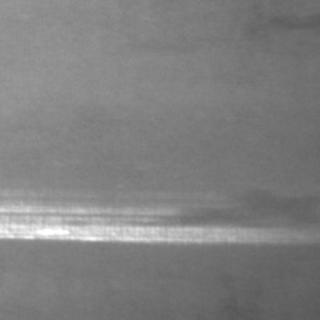scratches: (0, 189, 282, 241)
